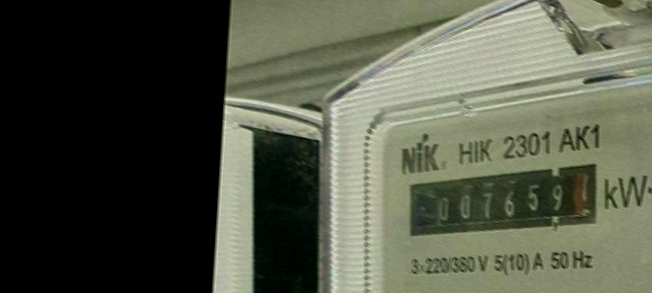0: (437, 194, 452, 223), (459, 193, 473, 221)
1: (578, 173, 592, 205)
5: (525, 182, 542, 215)
6: (503, 188, 518, 220)
7: (480, 188, 496, 221)
9: (549, 181, 566, 216)
screen: (393, 146, 620, 255)
